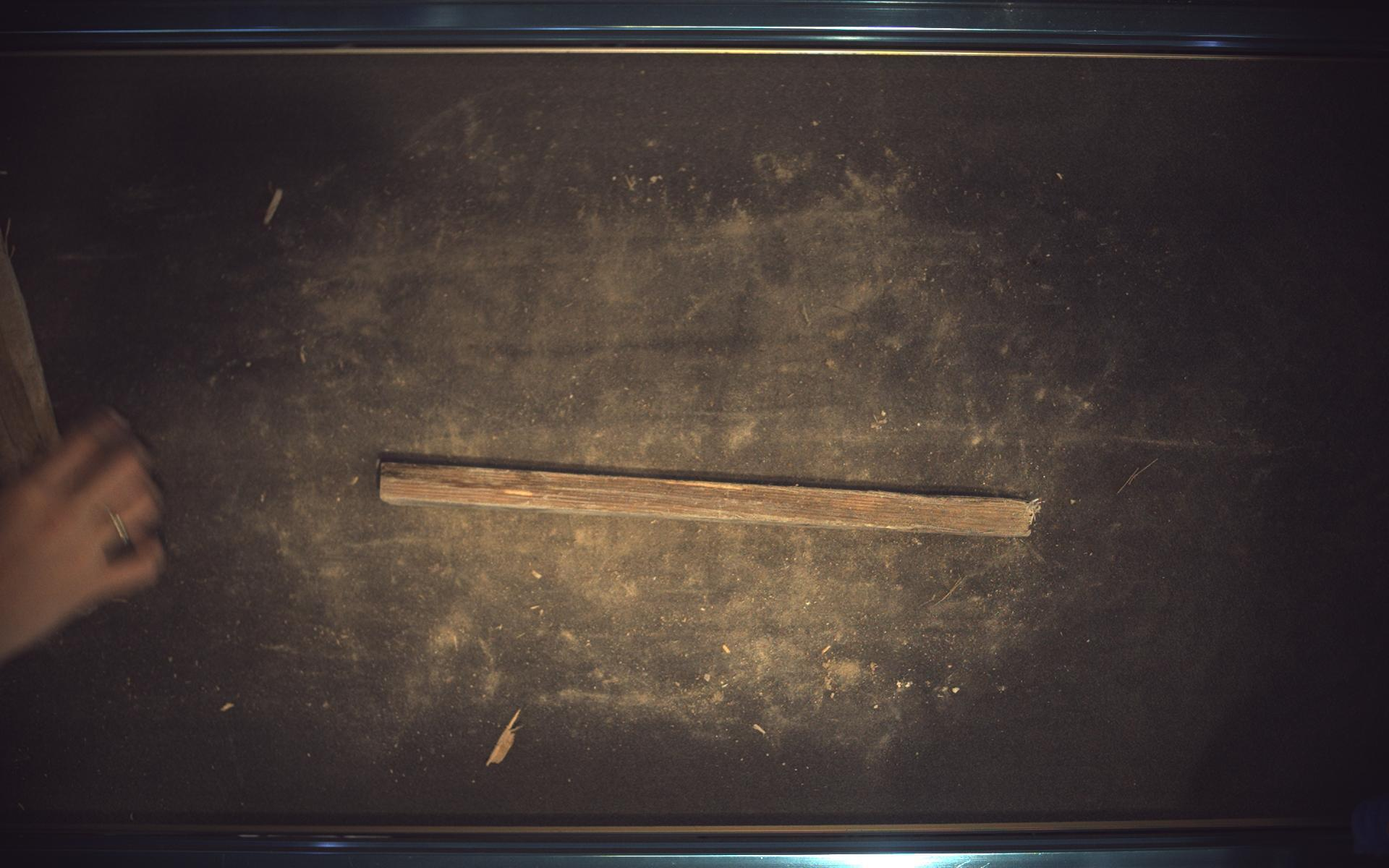wood: (379, 460, 1042, 538), (1, 234, 58, 486)
